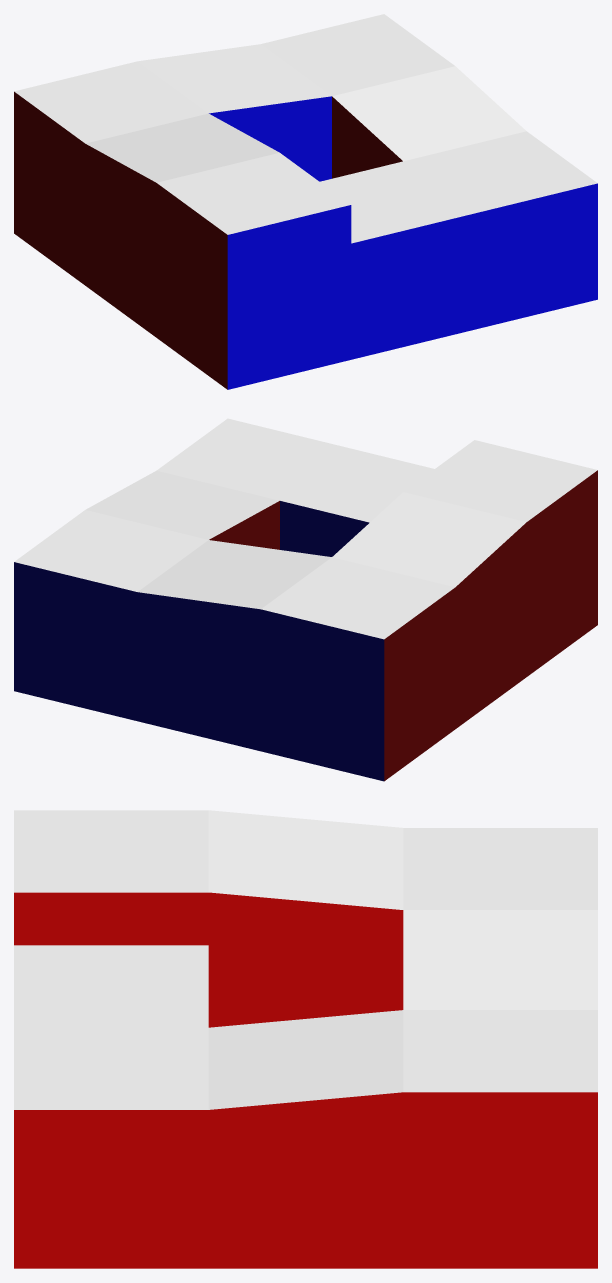
Rendered from labeled_CAD.glb.
3 renders of one model, top to bottom at view 1: azimuth 30°, elevation 25°; view 2: azimuth 150°, elevation 25°; view 3: azimuth 270°, elevation 25°, orthographic. The views are drawn at different scales.
Size of the model in its own units: 3 by 1.2 by 3.
Materials: 1 (1 with a texture image).
